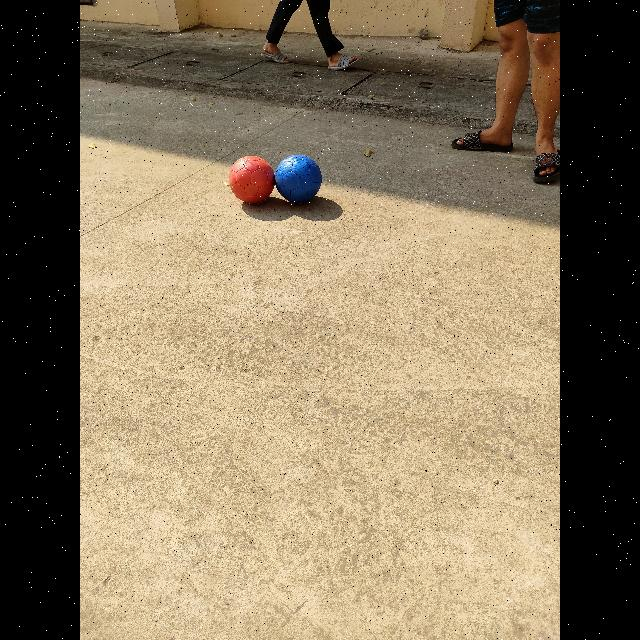B: (275, 154, 322, 203)
R: (229, 155, 274, 204)
